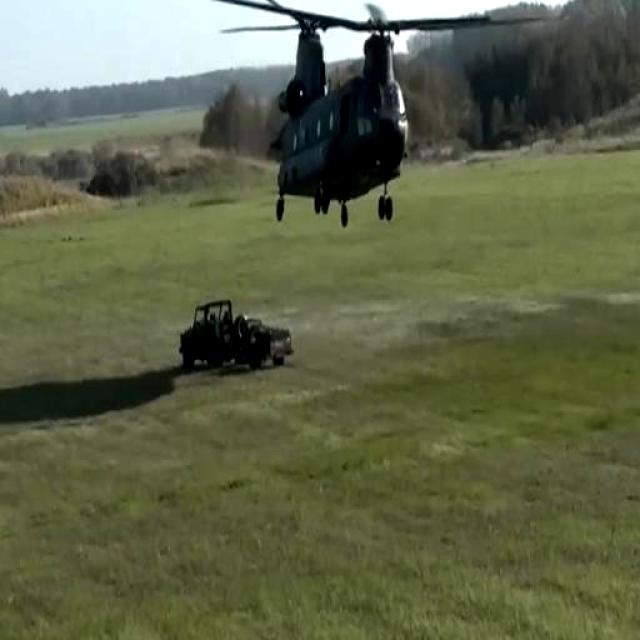drone: (230, 0, 448, 235)
